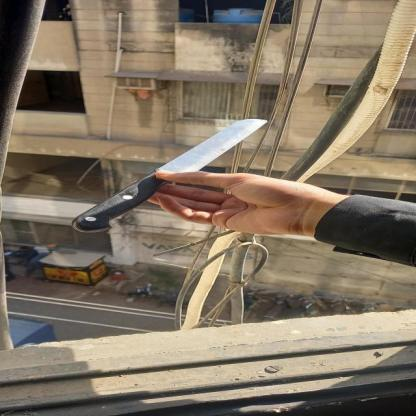Knife: (69, 118, 272, 236)
